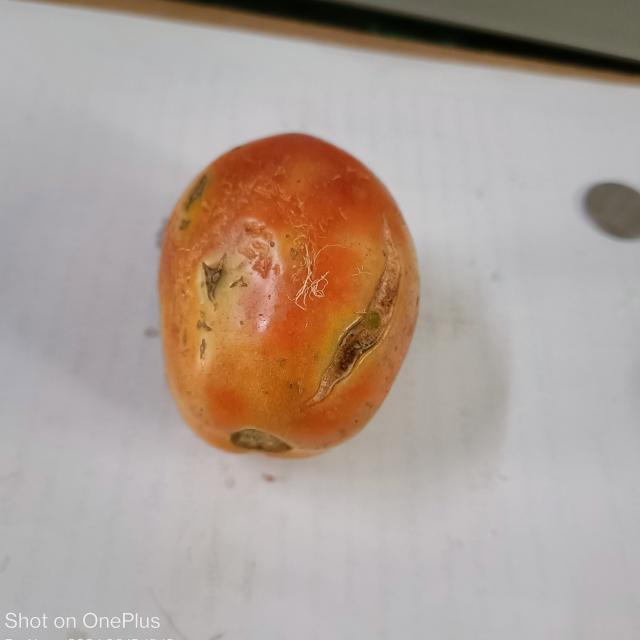Bacterial_Spot: (331, 261, 397, 401), (196, 254, 234, 298), (191, 323, 217, 365)
